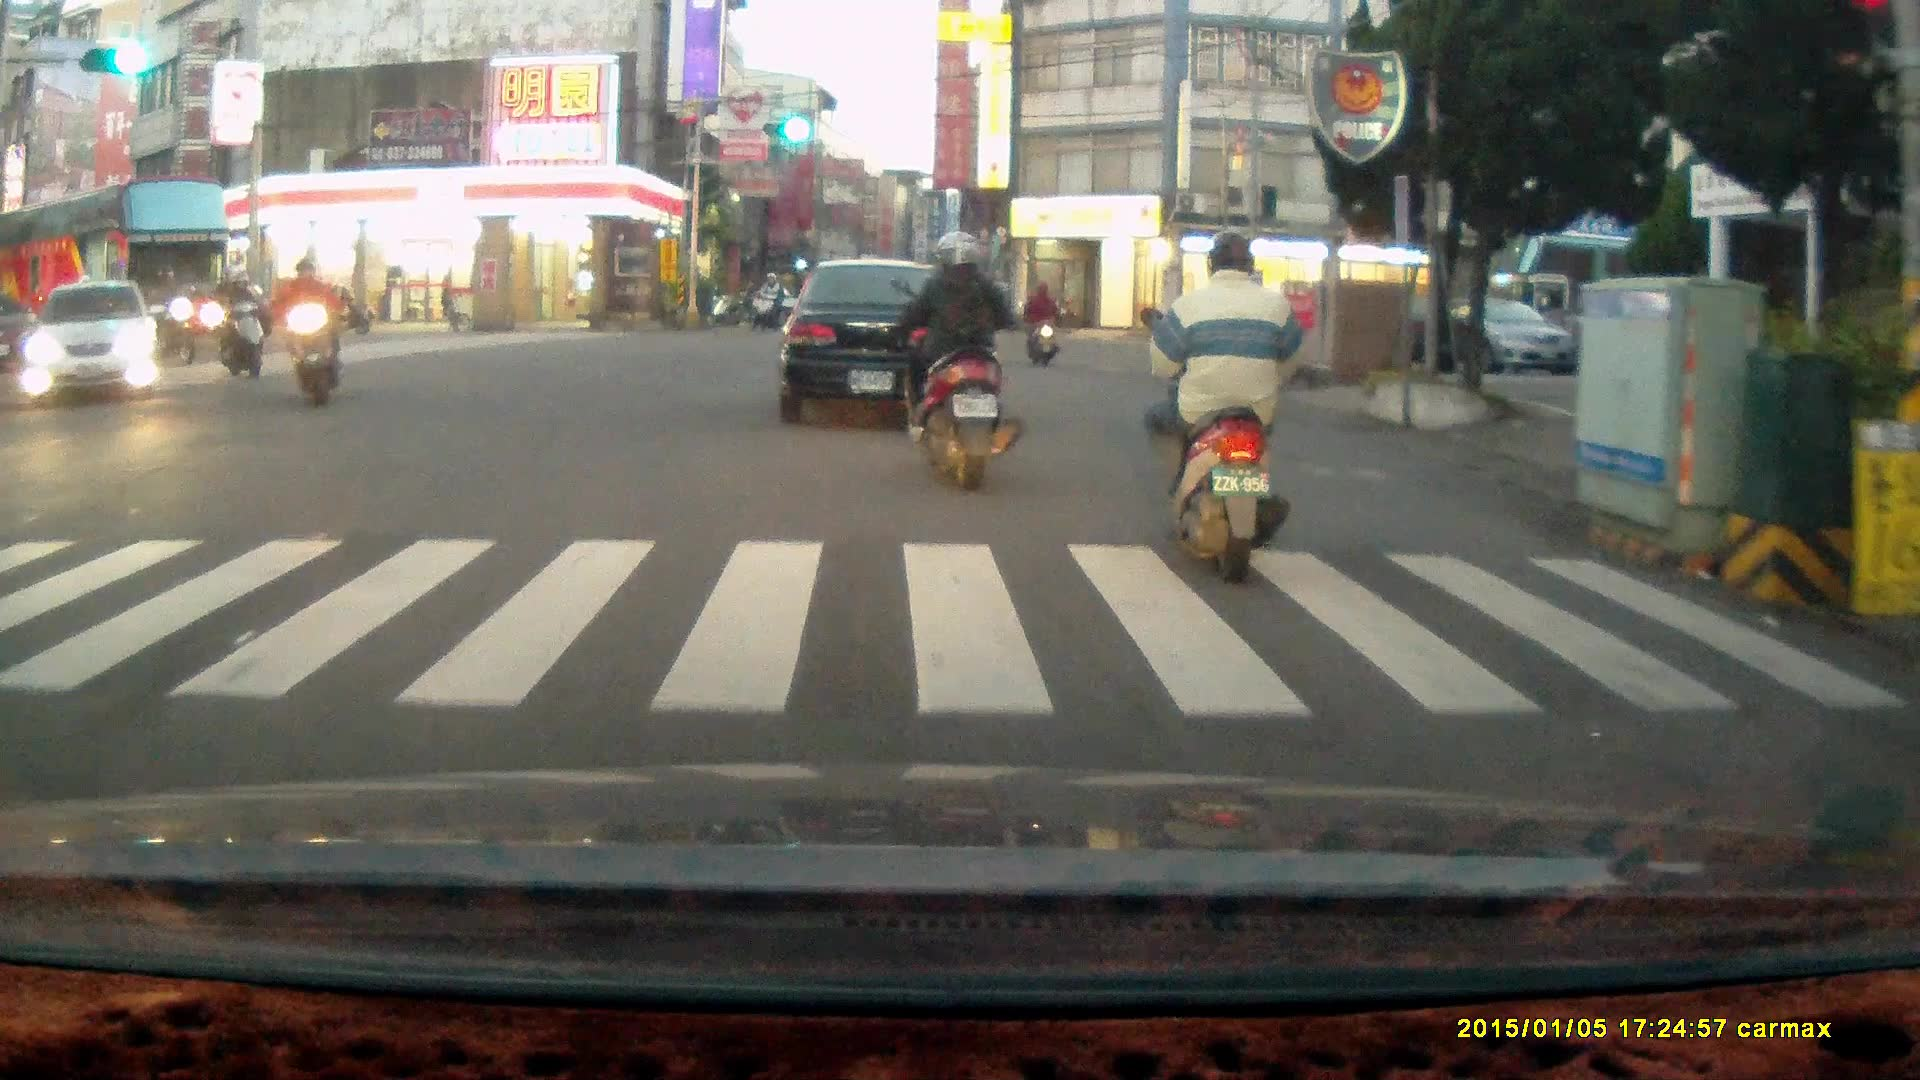rider: (1138, 232, 1296, 584), (887, 226, 1027, 494), (278, 256, 347, 412), (211, 262, 268, 383), (138, 263, 200, 366), (1023, 275, 1061, 366), (748, 277, 781, 340)
vehicle: (2, 180, 233, 354), (20, 281, 160, 406), (1393, 291, 1580, 377)
